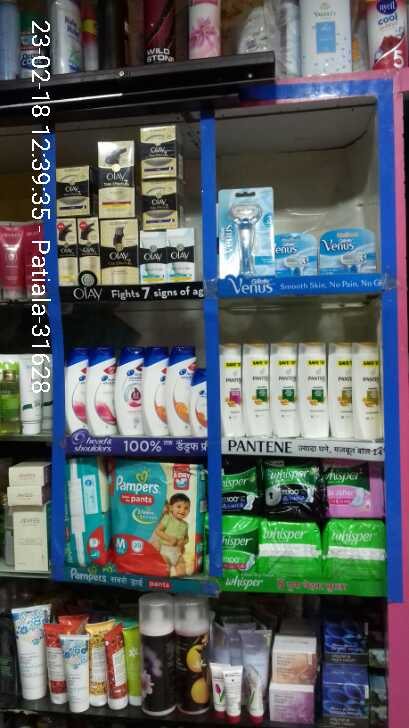venus: (222, 186, 272, 272), (321, 225, 375, 273), (279, 236, 319, 272)
